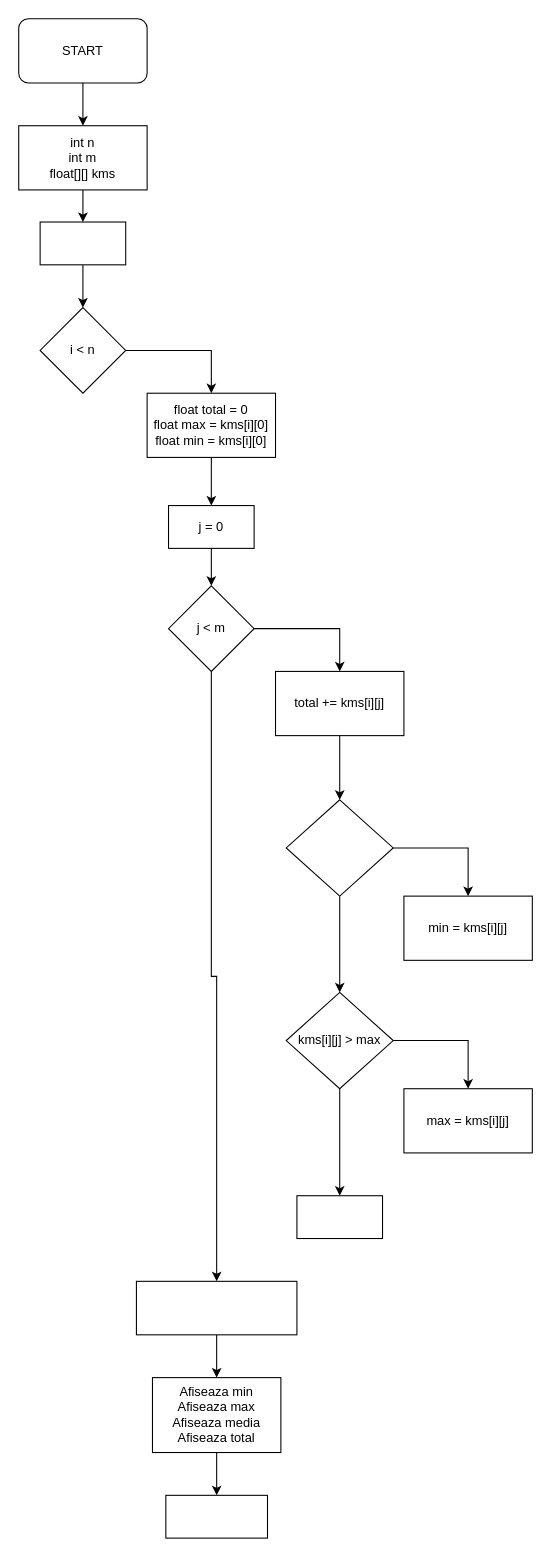
This 551x1557 diagram has some shape labels left out. The centre of each missing label's shape, as x and y in pixels:
float media = total / m: pixel 216 1307
i = 0: pixel 82 243
i++: pixel 216 1516
j++: pixel 339 1217
kms[i][j] < min: pixel 339 847
